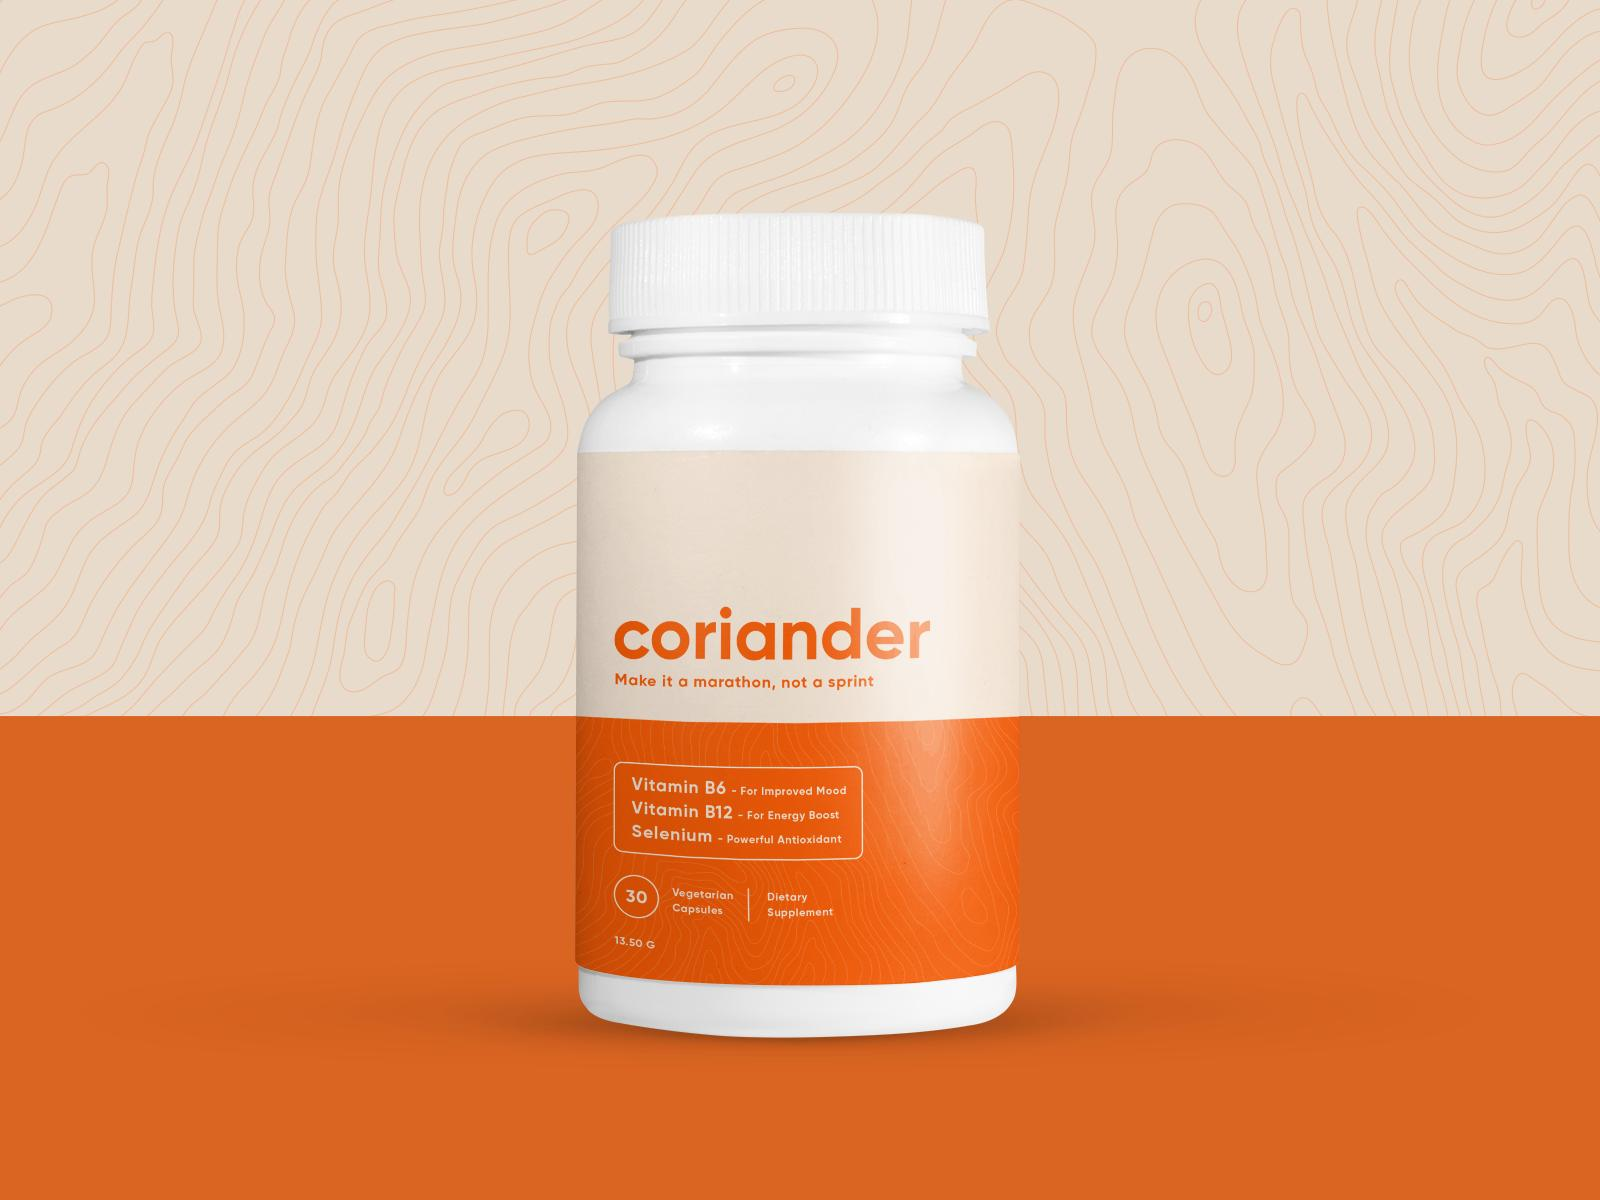jar: (571, 214, 1026, 1044)
